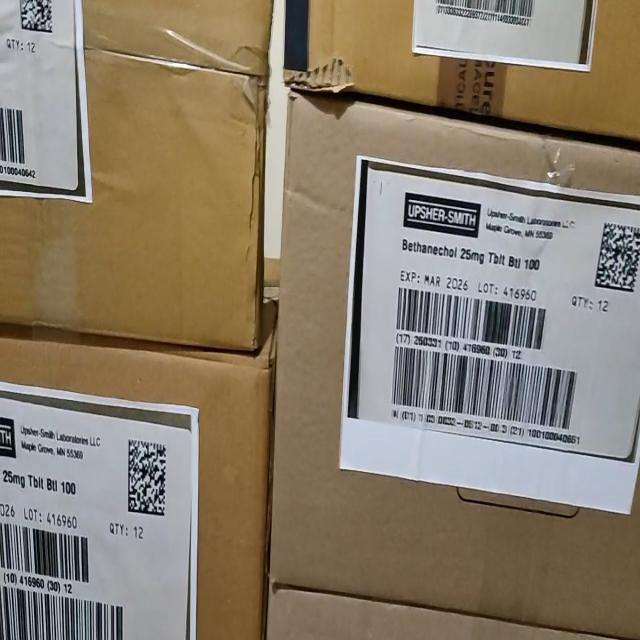BoxFace: (267, 83, 639, 633), (1, 1, 273, 353), (0, 294, 278, 638)
